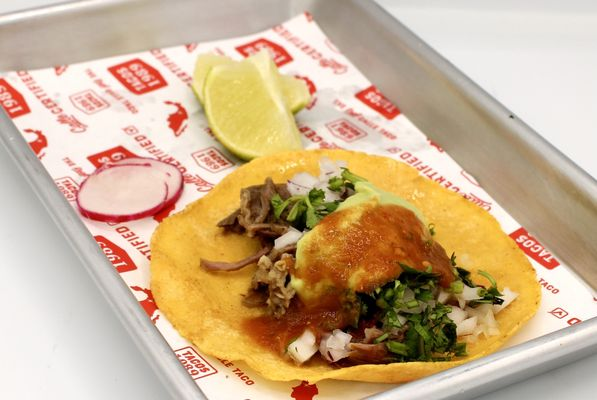soup: (149, 146, 550, 385)
